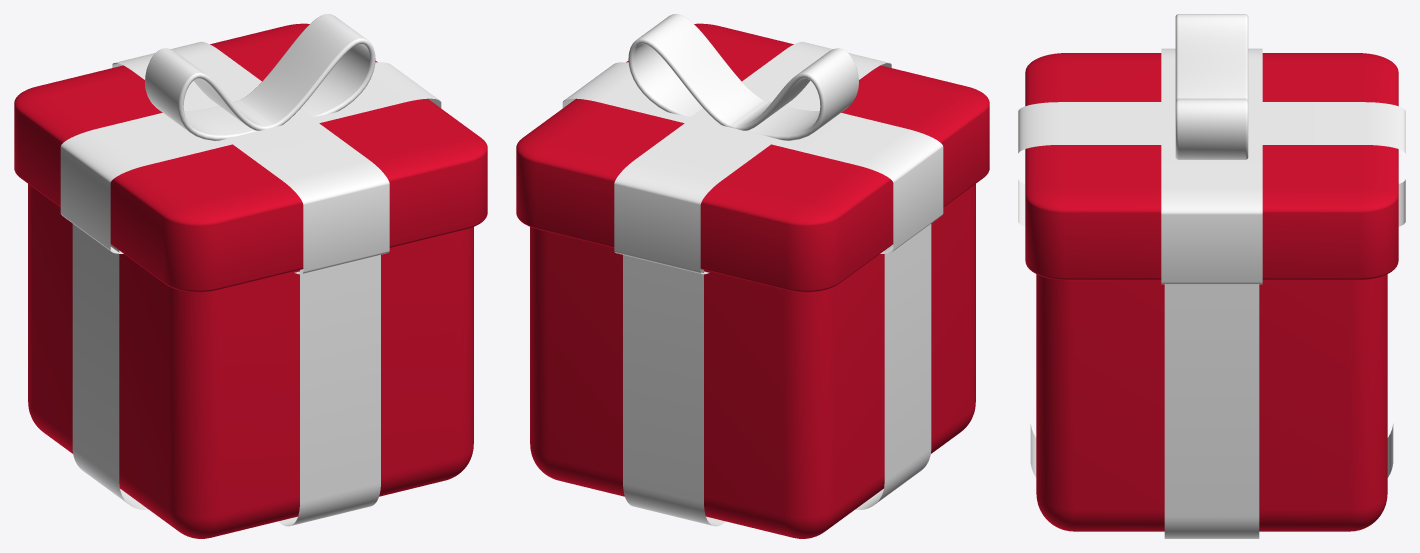
File: gift-box.glb
3 views of the same model, side by side, from view 1: azimuth 30°, elevation 25°; view 2: azimuth 150°, elevation 25°; view 3: azimuth 270°, elevation 25° (orthographic).
Visible parts, largest first — view 1: Cube, Cube.001, Cube.002, Cube.005, NurbsCurve; view 2: Cube, Cube.001, Cube.002, Cube.005, NurbsCurve; view 3: Cube, Cube.001, Cube.005, Cube.002, NurbsCurve.
Part boxes in pixels (<box>): Cube: <box>28,184,473,538</box>; Cube.001: <box>14,23,487,292</box>; Cube.002: <box>72,224,380,526</box>; Cube.005: <box>60,41,441,274</box>; NurbsCurve: <box>145,14,375,140</box>; Cube: <box>530,184,975,538</box>; Cube.001: <box>516,23,989,292</box>; Cube.002: <box>623,224,931,526</box>; Cube.005: <box>562,41,943,274</box>; NurbsCurve: <box>628,14,858,140</box>; Cube: <box>1036,274,1387,531</box>; Cube.001: <box>1025,53,1398,280</box>; Cube.005: <box>1018,48,1405,284</box>; Cube.002: <box>1030,284,1393,538</box>; NurbsCurve: <box>1175,14,1248,159</box>.
Size of the model in its own units: 0.7597 by 0.9197 by 0.7597.
